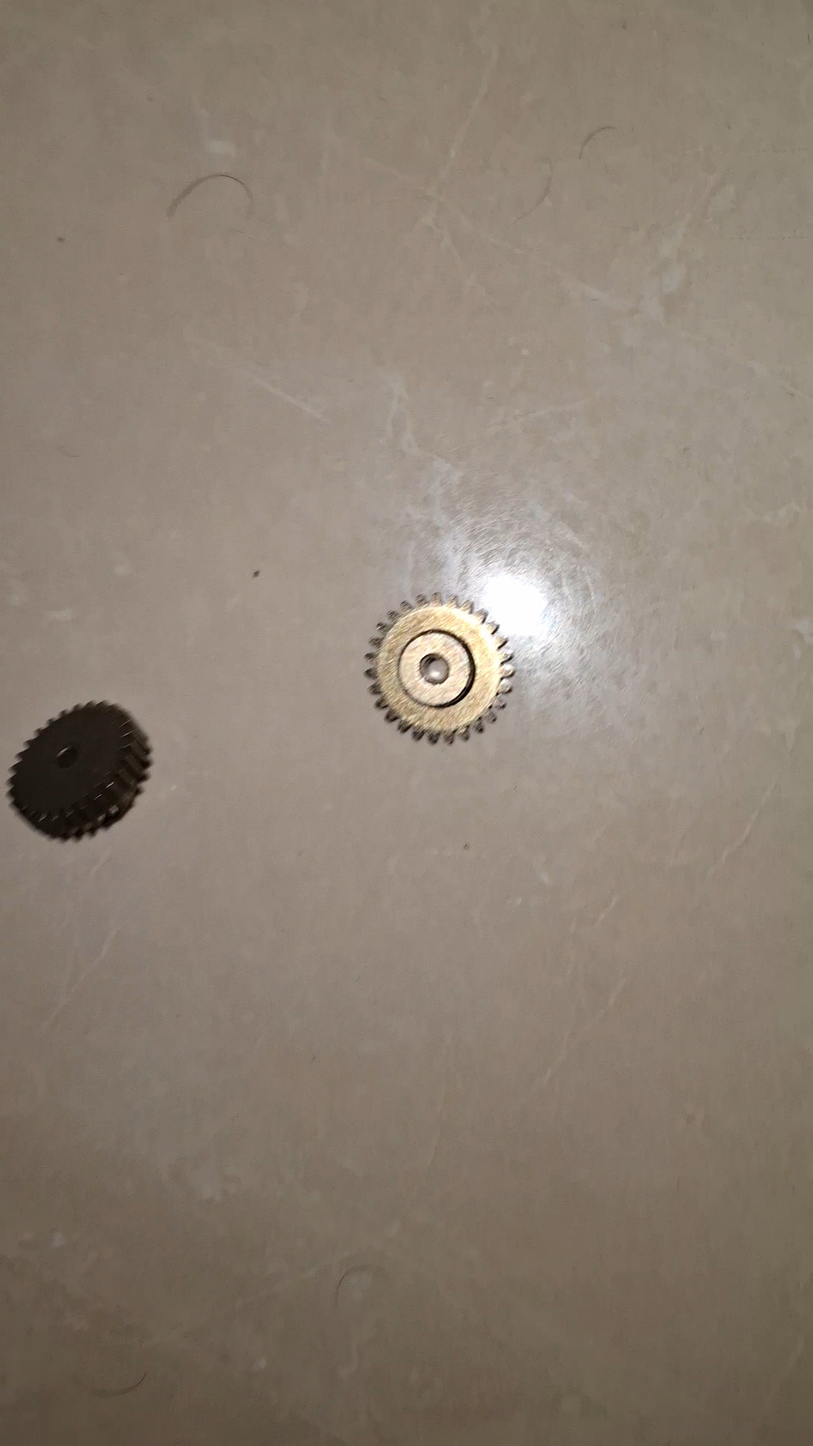spur gear: (366, 595, 514, 742), (8, 702, 150, 839)
